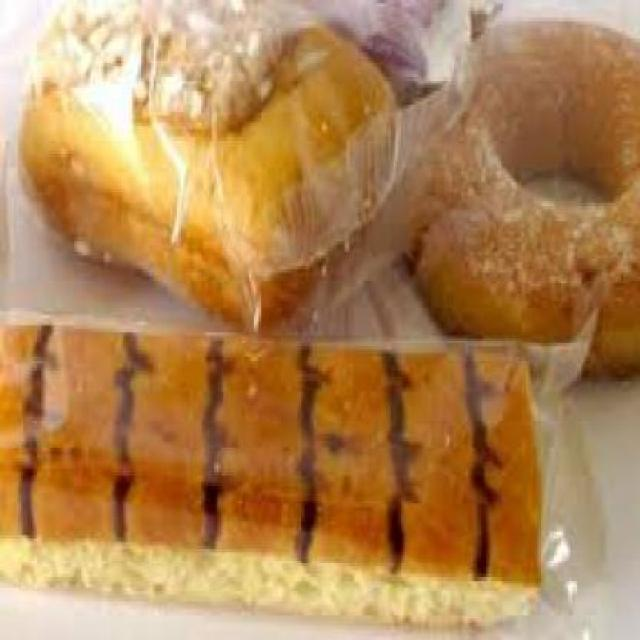Merendine packaged: (2, 308, 593, 637), (16, 3, 402, 332)
